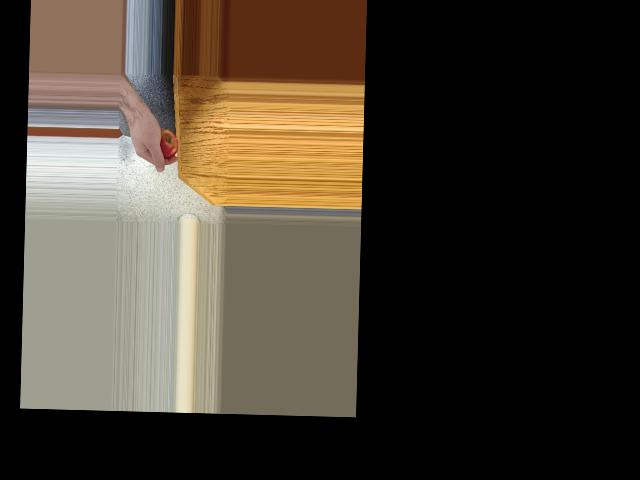apple: (147, 122, 179, 161)
